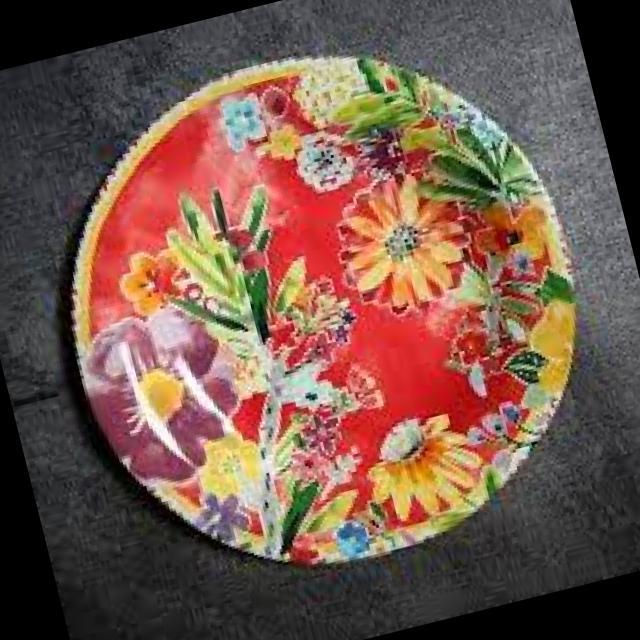plate: (84, 63, 564, 567)
